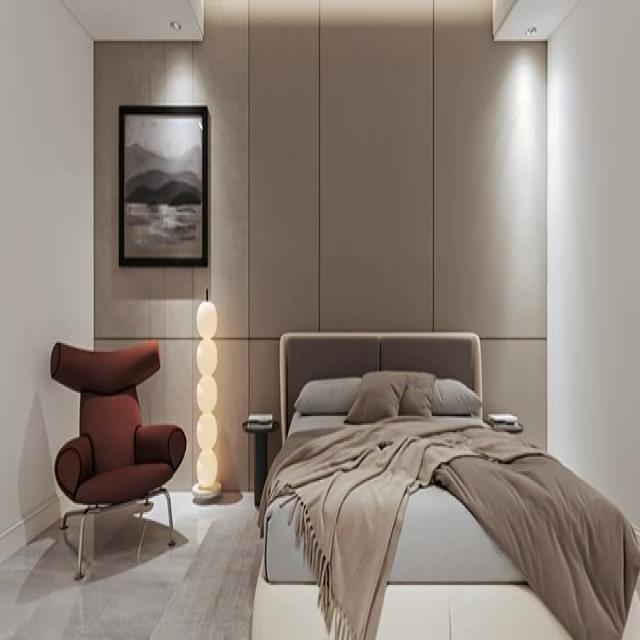obstacle: (251, 331, 639, 638), (49, 338, 186, 580), (241, 416, 279, 507)
